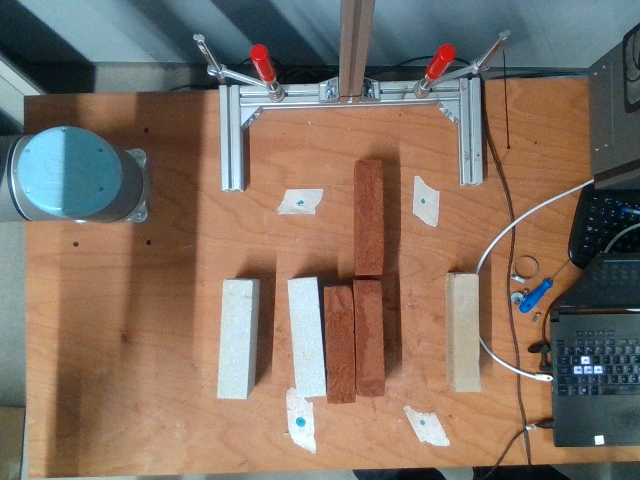brick-side: (288, 279, 326, 397), (220, 280, 252, 398), (353, 159, 382, 276), (354, 280, 382, 397), (451, 275, 479, 392), (326, 287, 353, 404)
